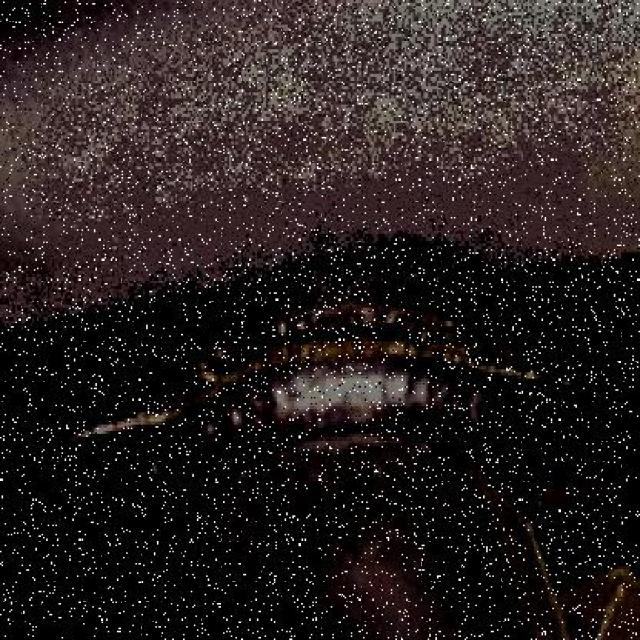Crack: (209, 314, 437, 369)
